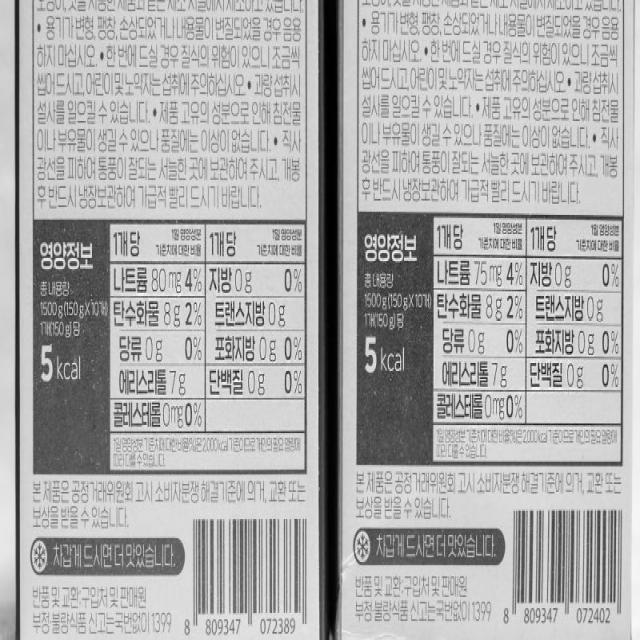Nutrition Label: (28, 215, 314, 478)
